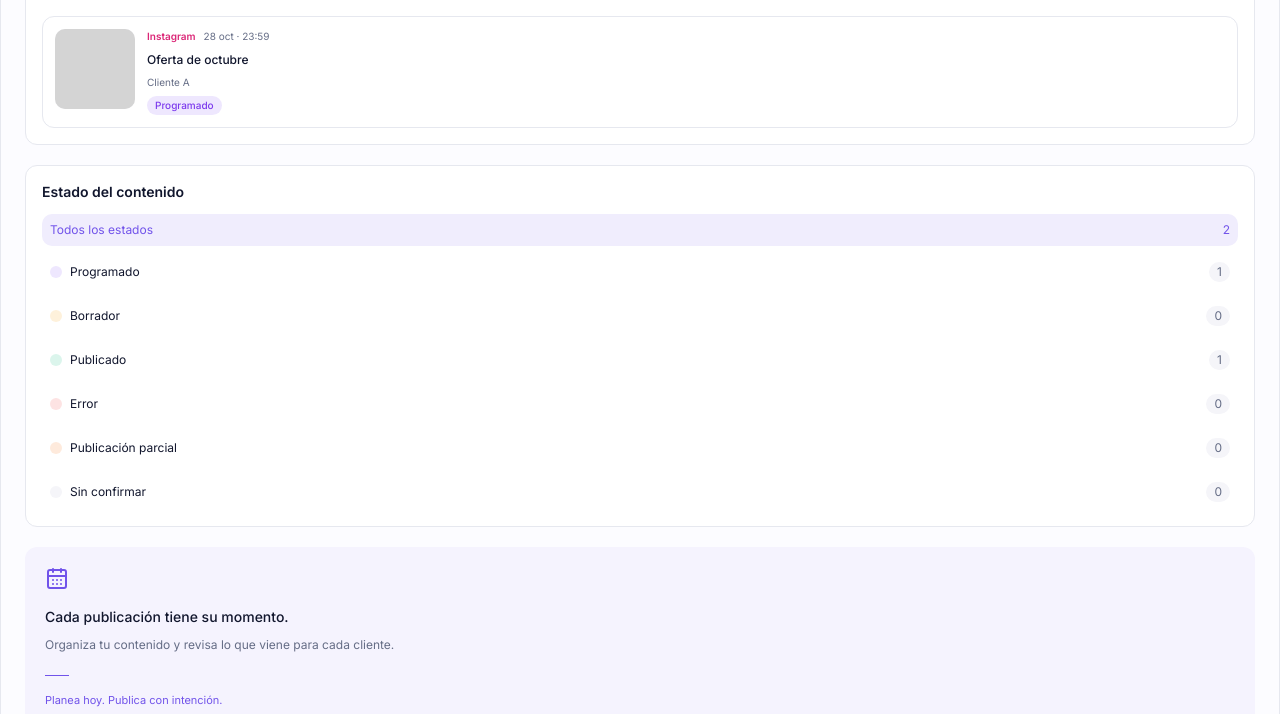
Test: visual posting calendar › provides a right panel with all upcoming posts and clickable state filters
(page scrolled)
Click the button "Publicado 1". click: (98, 360)
box: [42,342,1238,378]
(page scrolled)
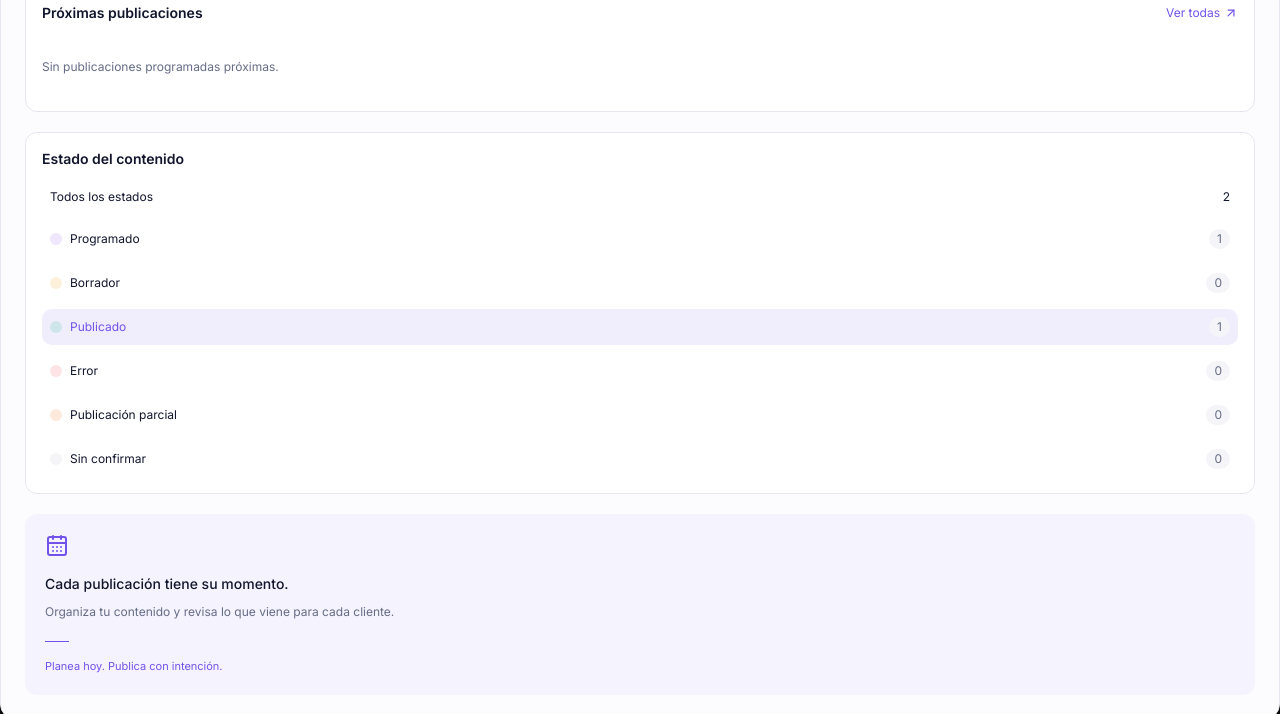
Result: the button "Oferta de octubre" is gone
Click the button "Todos los estados 2". click: (102, 196)
box: [42,181,1238,213]
(page scrolled)
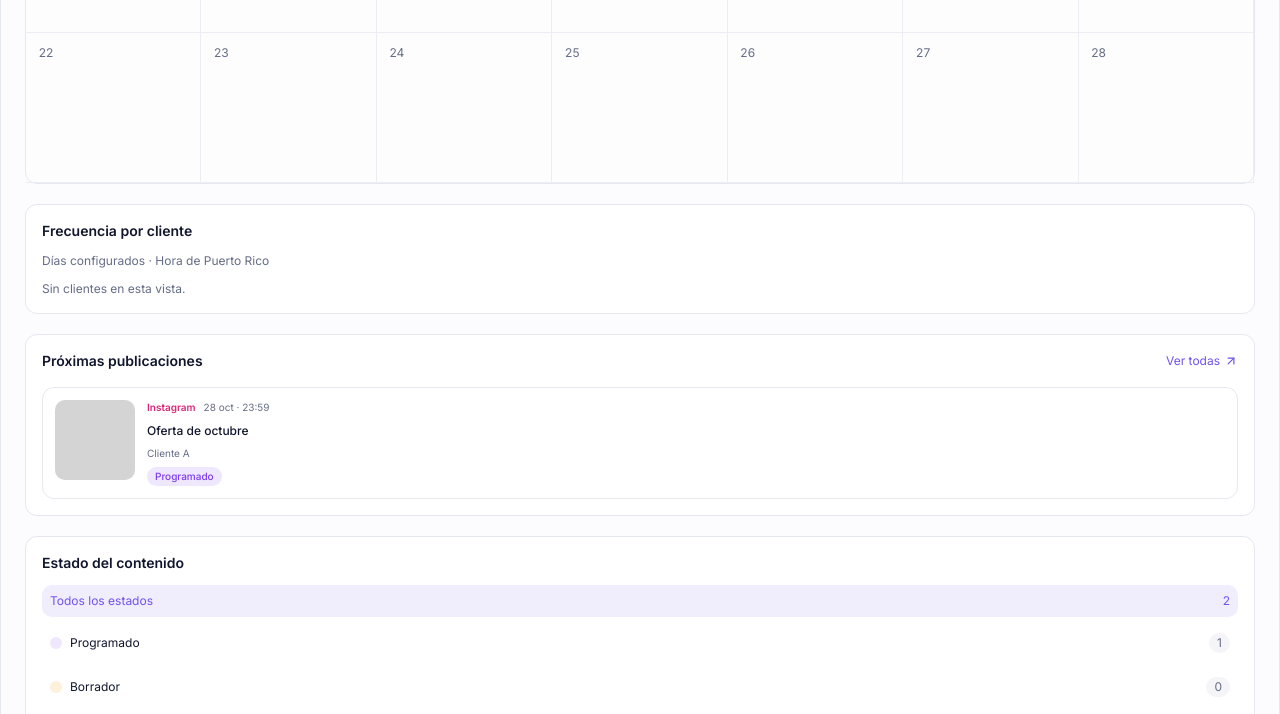
Click the button "Ver todas". click: (1202, 361)
box: [1166,353,1238,369]
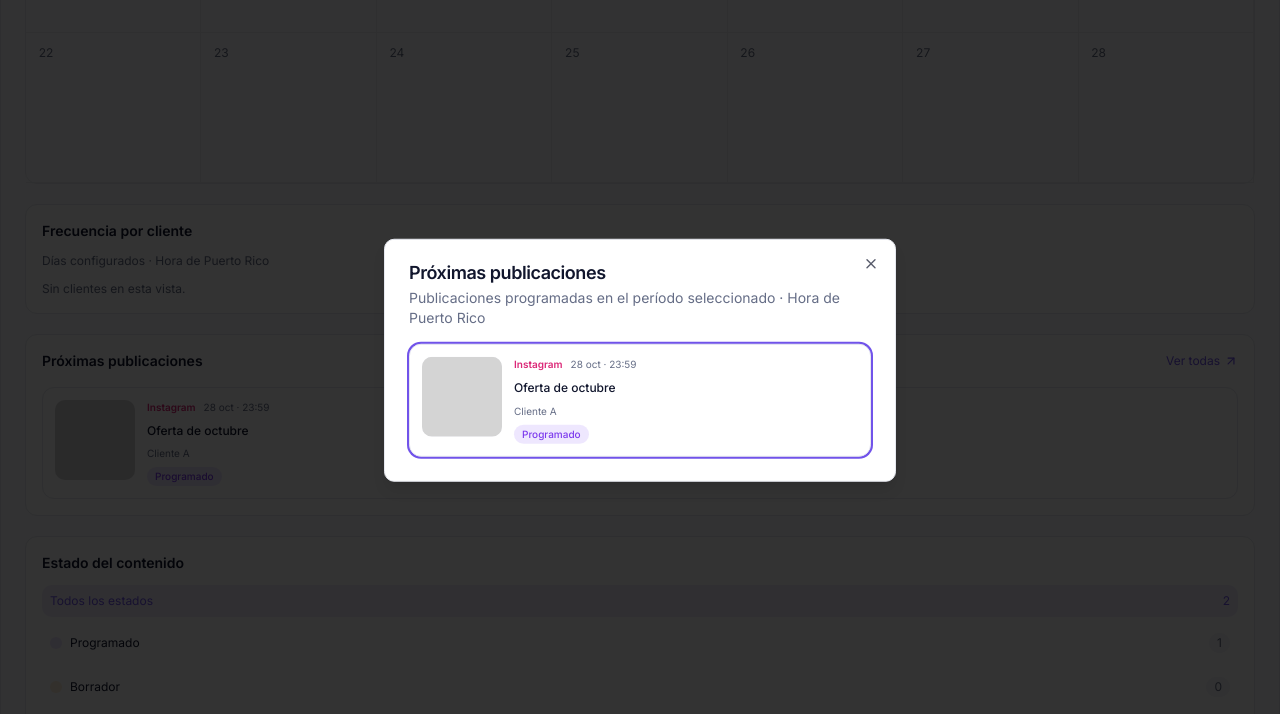
Result: the dialog shows "Oferta de octubre" at [409,344,871,456]
